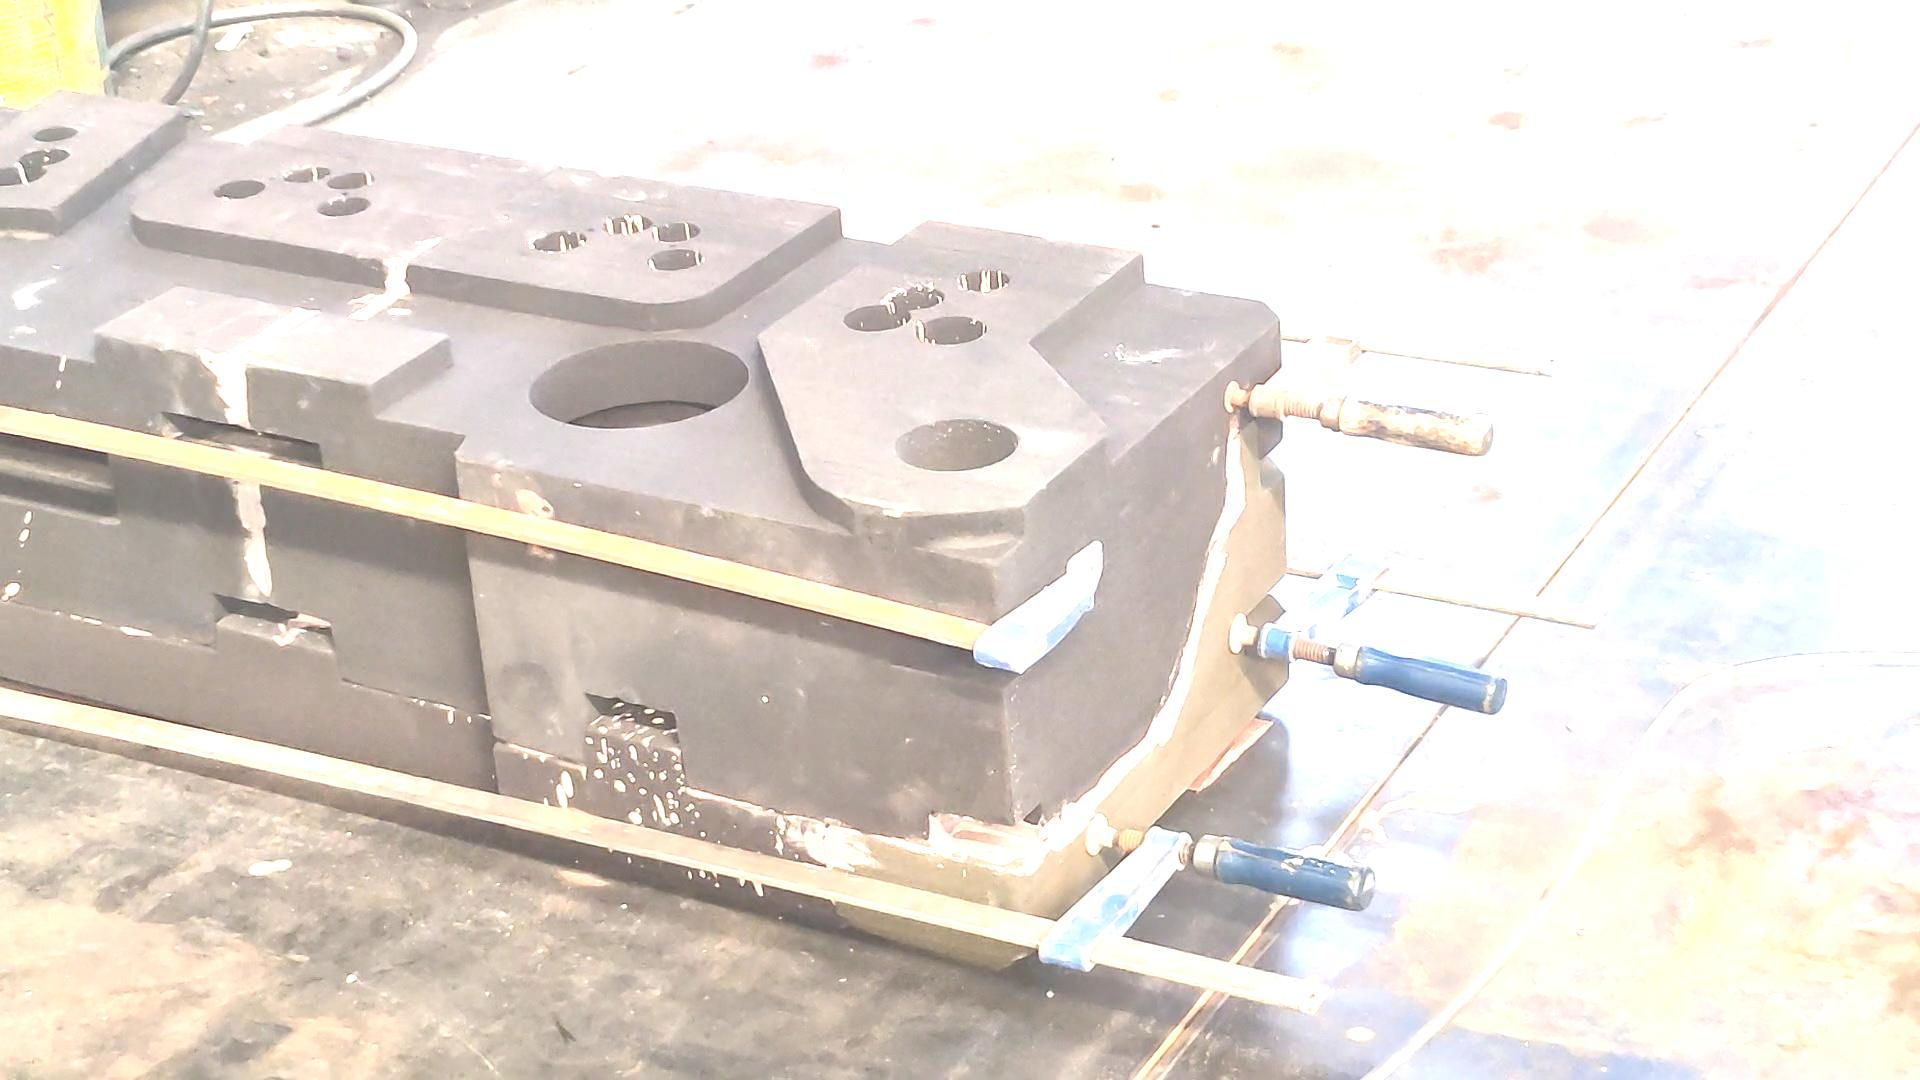pouring hole: (894, 419, 1019, 472)
